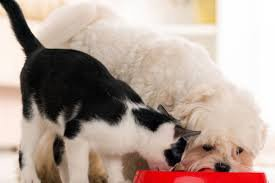cat: (8, 5, 183, 183)
dog: (141, 26, 266, 173)
